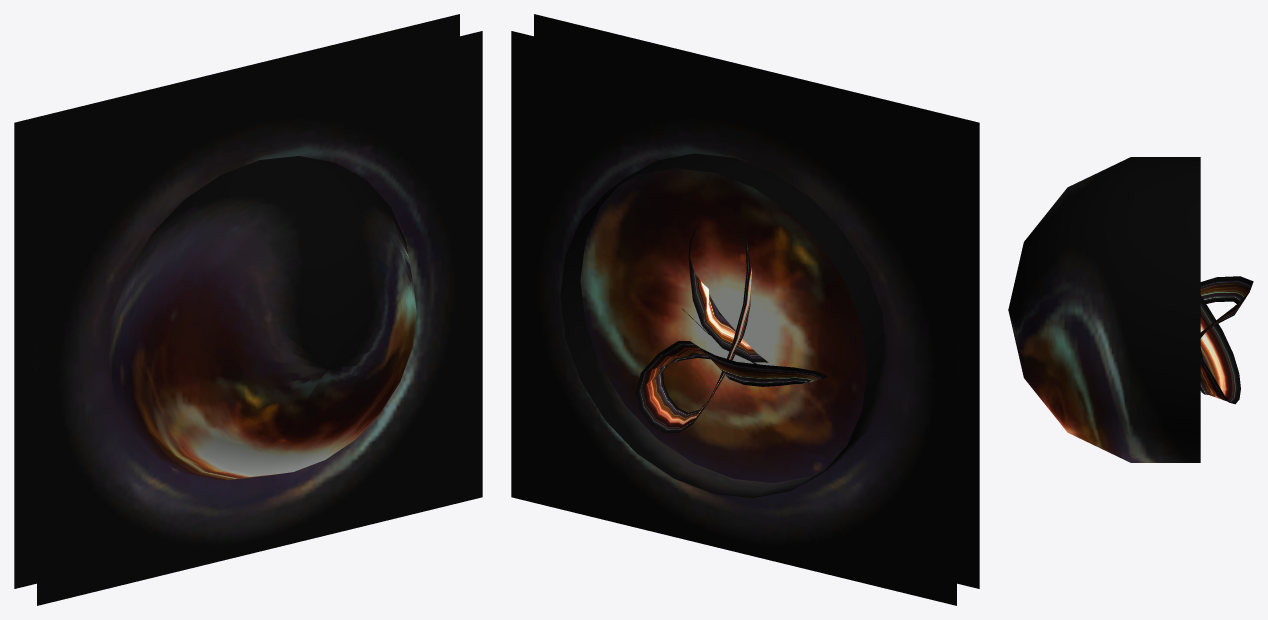
The model's file is w_CombineBall.fbx.
3 views of the same model, side by side, from view 1: azimuth 30°, elevation 25°; view 2: azimuth 150°, elevation 25°; view 3: azimuth 270°, elevation 25° (orthographic). The views are drawn at different scales.
Parts seen in each view (by area): view 1: combineball_reference; view 2: combineball_reference; view 3: combineball_reference.
Part boxes in pixels (left/top/right/bottom): combineball_reference: left=14, top=14, right=482, bottom=605; combineball_reference: left=511, top=14, right=979, bottom=605; combineball_reference: left=1008, top=157, right=1253, bottom=462.
Size of the model in its own units: 3169 by 3169 by 1746.
